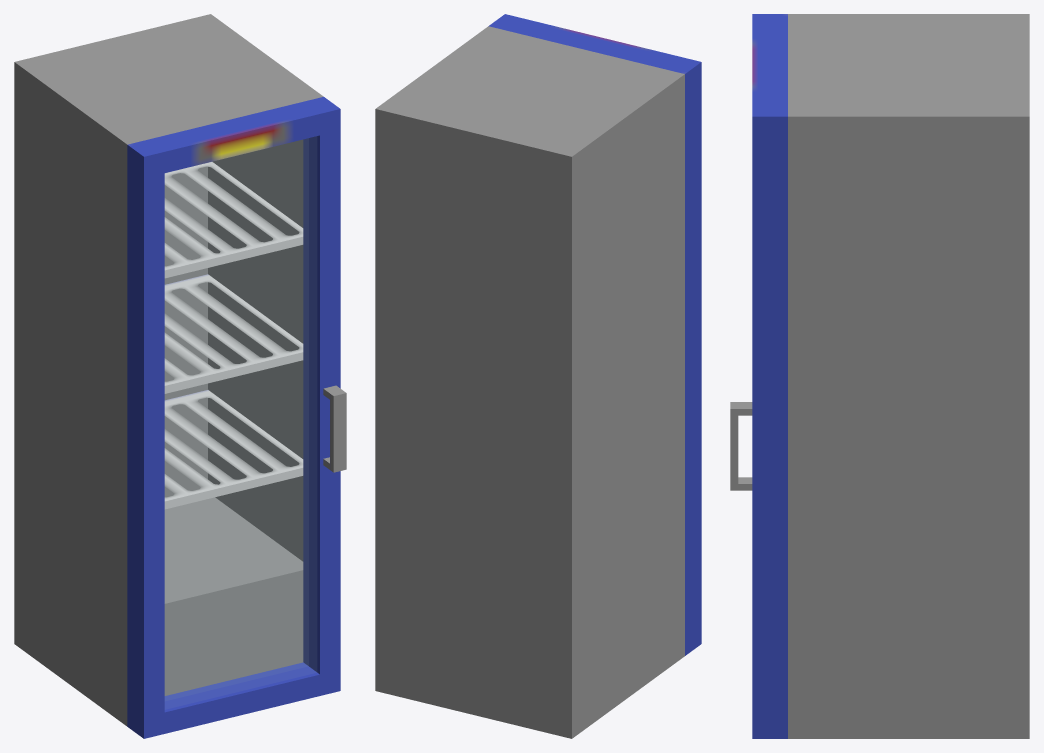
File: BeerCooler.fbx
3 renders of one model, left to right at view 1: azimuth 30°, elevation 25°; view 2: azimuth 150°, elevation 25°; view 3: azimuth 270°, elevation 25°, orthographic. The views are drawn at different scales.
Visible parts, largest first — view 1: Fridge, FridgeDoor; view 2: Fridge, FridgeDoor; view 3: Fridge, FridgeDoor.
Part boxes in pixels (x1,y1,x2,y2): Fridge: (14, 14, 323, 726); FridgeDoor: (127, 96, 346, 738); Fridge: (375, 26, 684, 738); FridgeDoor: (488, 14, 701, 655); Fridge: (788, 14, 1029, 738); FridgeDoor: (730, 14, 787, 738).
Bounding box in the file's own units: 97.24 × 275 × 120.
